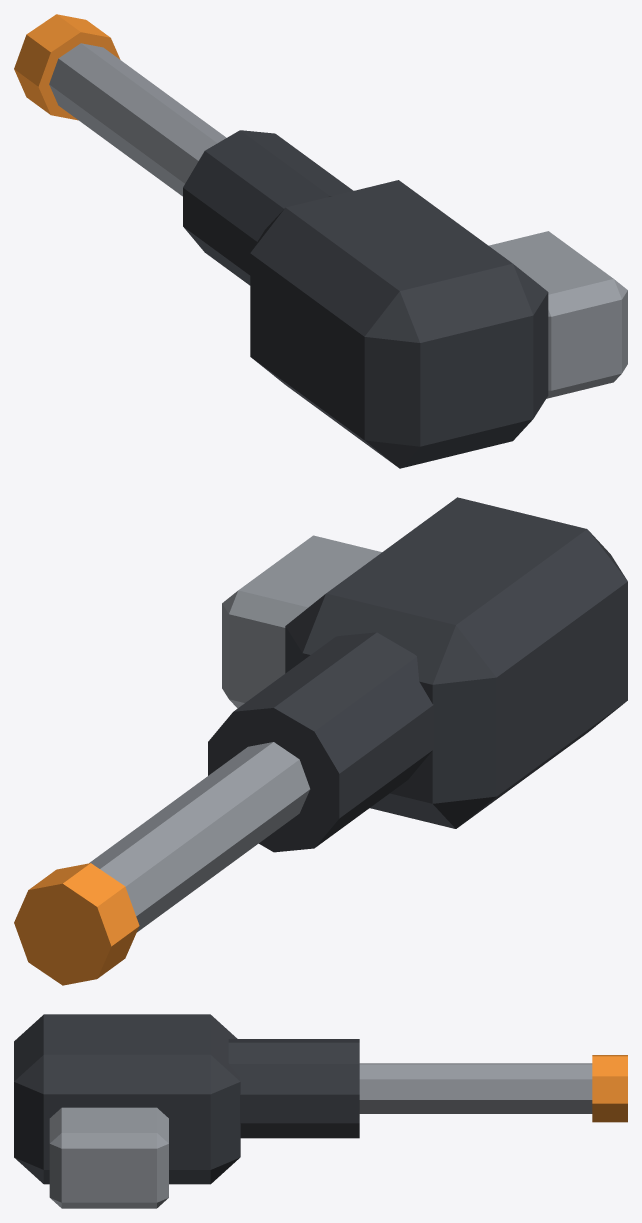
Rendered from machine_gun.glb.
The picture shows the model from 3 angles, top to bottom: view 1: azimuth 30°, elevation 25°; view 2: azimuth 150°, elevation 25°; view 3: azimuth 270°, elevation 25°; orthographic projection. The views are drawn at different scales.
Parts seen in each view (by area): view 1: machine_gun; view 2: machine_gun; view 3: machine_gun.
Part boxes in pixels (x1=…): machine_gun: x1=14, y1=14, x2=627, y2=468; machine_gun: x1=14, y1=497, x2=627, y2=985; machine_gun: x1=14, y1=1014, x2=627, y2=1208.
Bounding box in the file's own units: 0.39 × 0.24 × 1.03.
